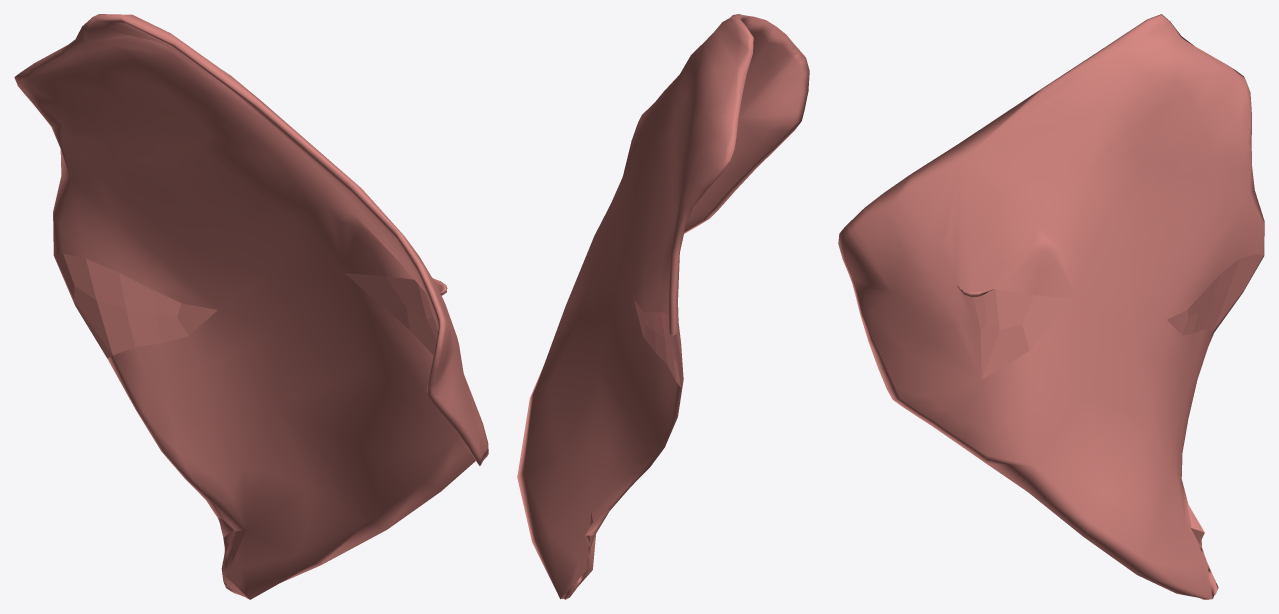
3 renders of one model, left to right at view 1: azimuth 30°, elevation 25°; view 2: azimuth 150°, elevation 25°; view 3: azimuth 270°, elevation 25°, orthographic. The views are drawn at different scales.
Visible parts, largest first — view 1: ZA_fcaaaff223291c7a; view 2: ZA_fcaaaff223291c7a; view 3: ZA_fcaaaff223291c7a.
Boxes of the visible parts, x1,y1,x2,y2 form: ZA_fcaaaff223291c7a: [14, 14, 488, 599]; ZA_fcaaaff223291c7a: [517, 14, 809, 599]; ZA_fcaaaff223291c7a: [838, 14, 1264, 599].
Bounding box in the file's own units: 0.0163 × 0.0312 × 0.0233.
